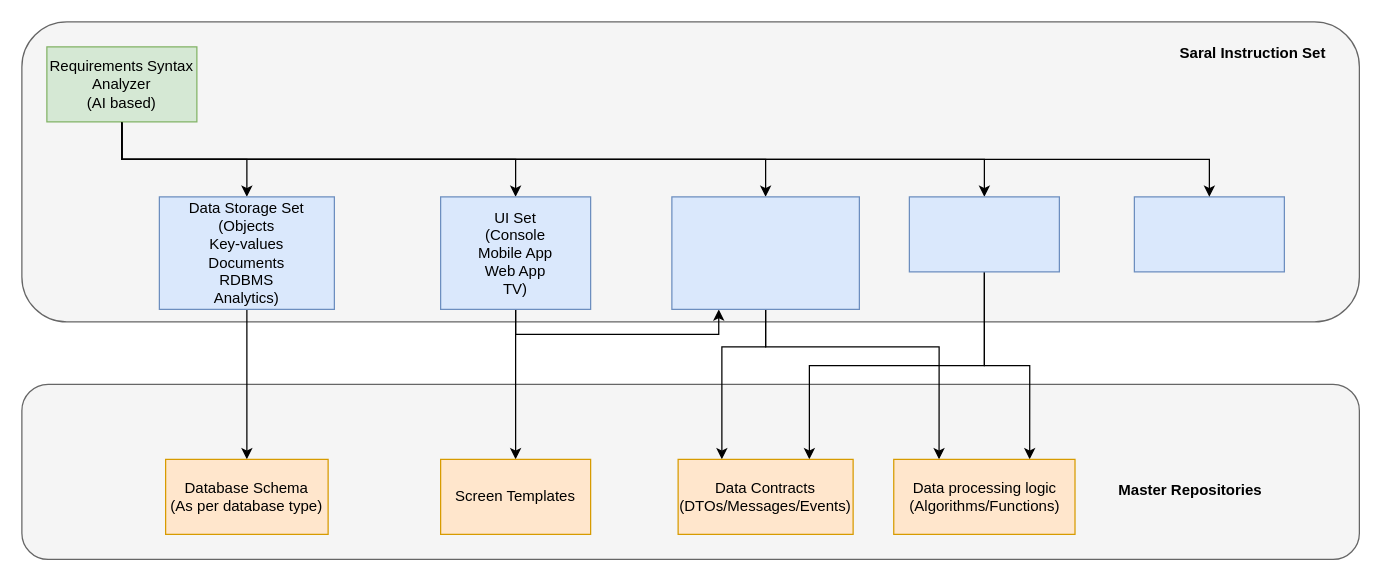
This 1381x581 diagram has some shape labels left out. The centre of each missing label's shape, as x and y in pixels:
"Data Mobility Set (backend APIs File Streaming services)" belongs at pixel 765 252.
"Data pipeline Sets (async workflows)" belongs at pixel 983 234.
"Networking Sets (ports and access rules)" belongs at pixel 1208 234.
